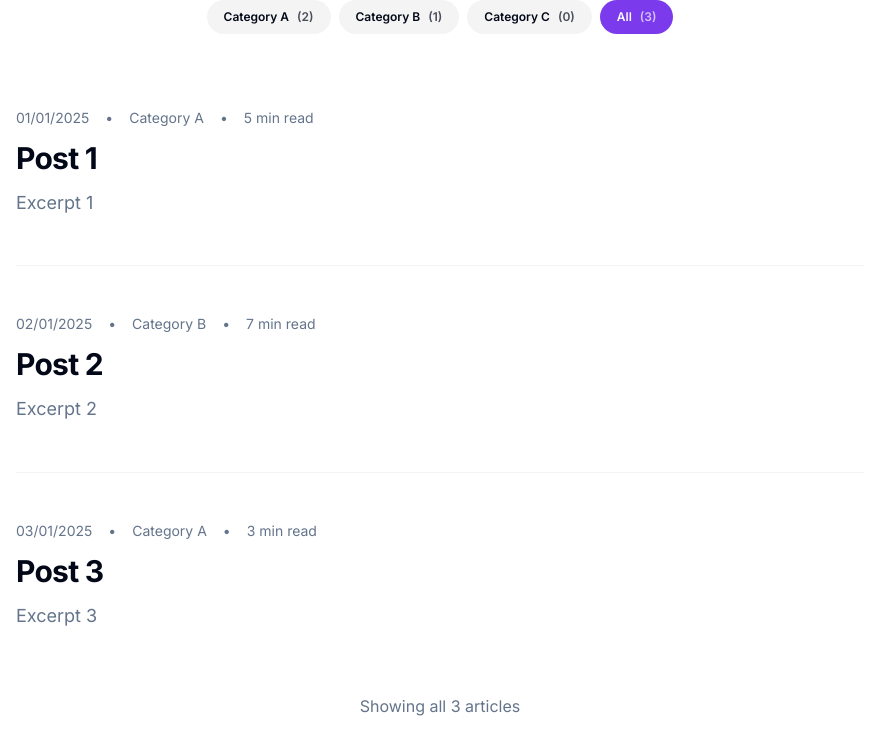
Test: BlogList › displays 'No posts found' message when a category has no posts
Click the text "Category B". click: (399, 17)
box: [338,0,459,34]
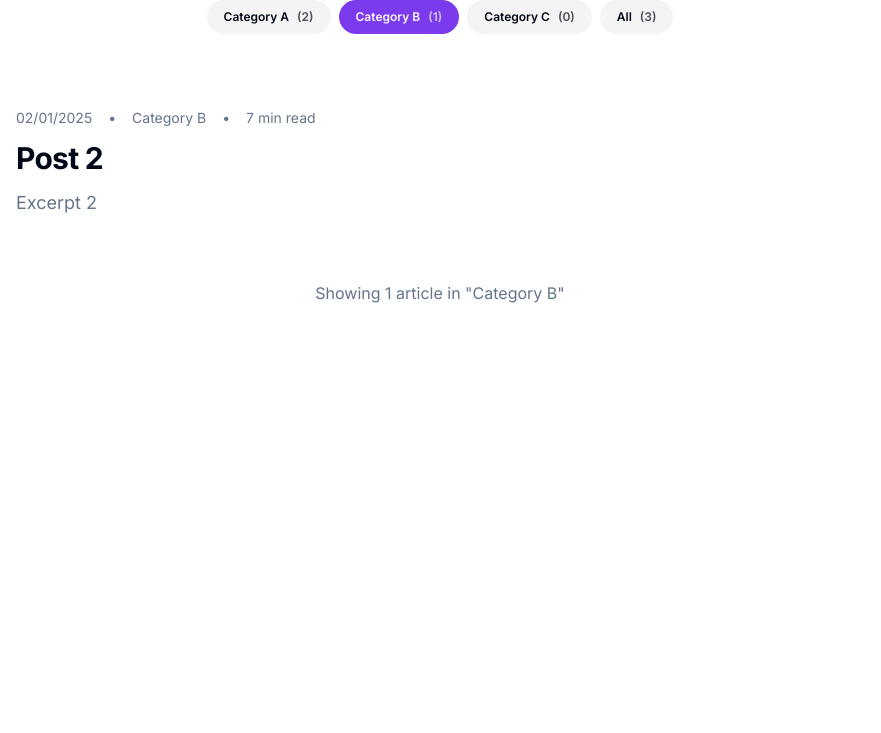
Click the text "Category A". click: (268, 17)
box: [206,0,330,34]
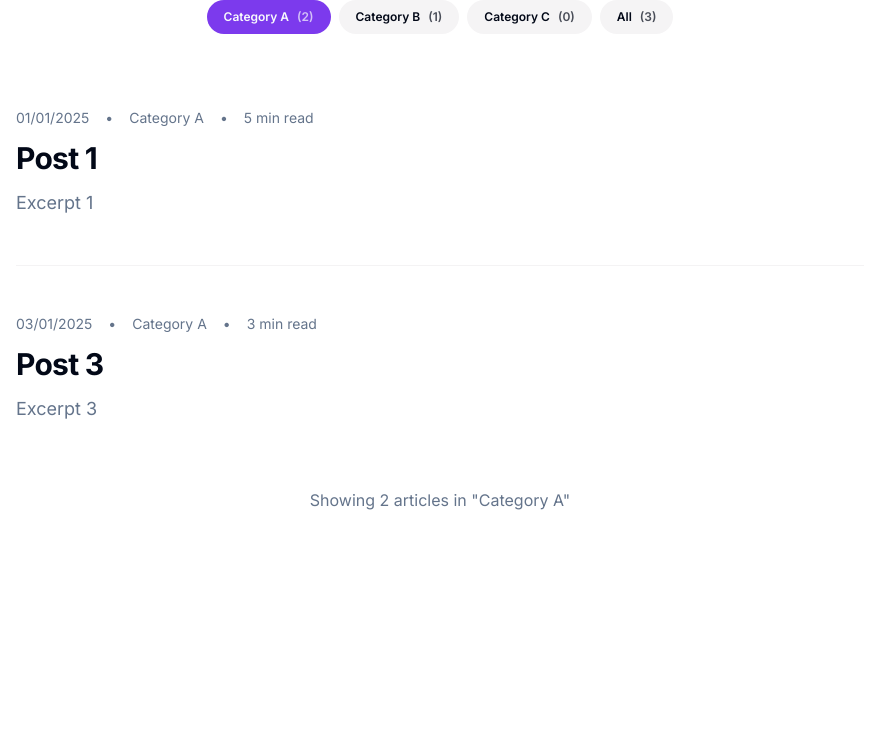
Click the text "Category B". click: (399, 17)
box: [338,0,459,34]
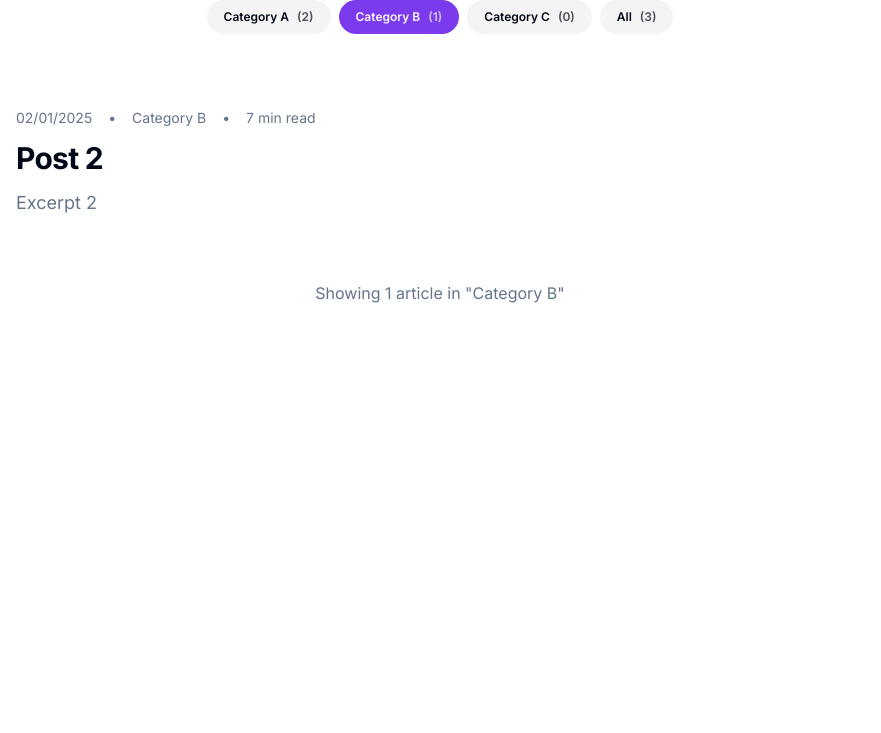
Check: the heading "Post 2" is shown, box [16,140,103,176]
Check: the link "Post 1" is gone
Check: the link "Post 3" is gone
